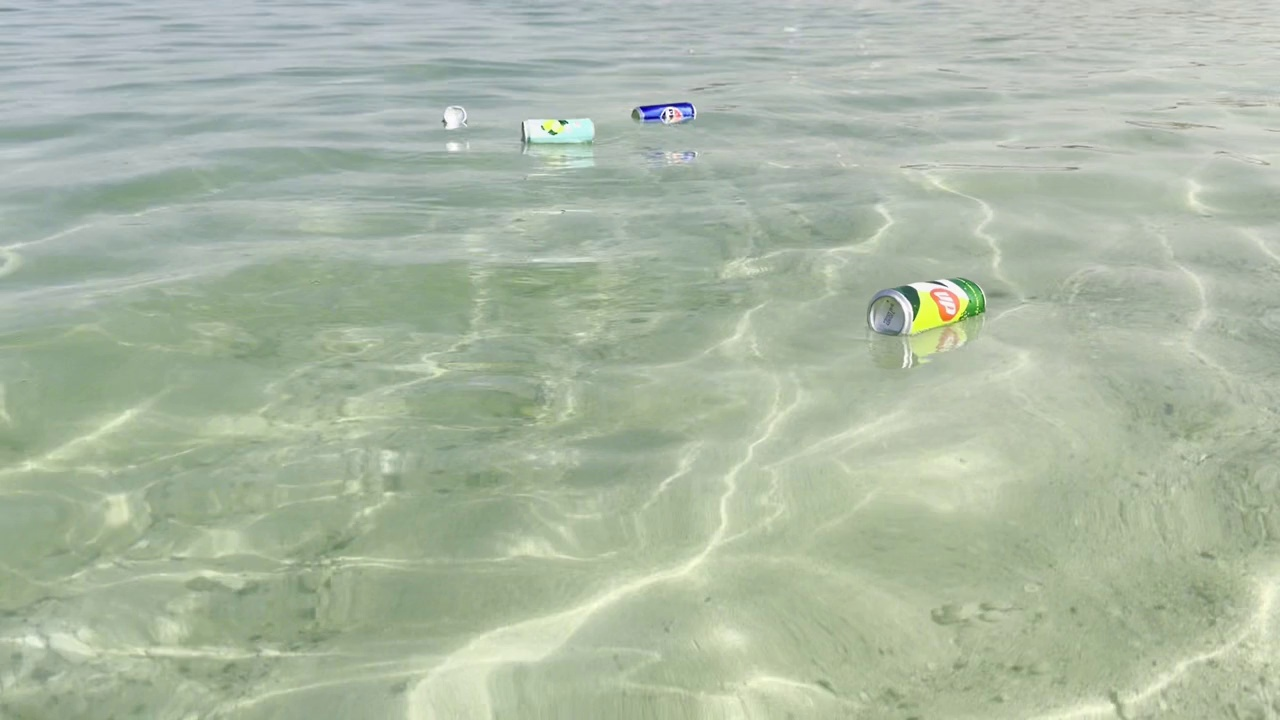debris: (860, 272, 985, 341), (516, 109, 604, 155), (622, 96, 706, 131), (435, 99, 471, 135)
